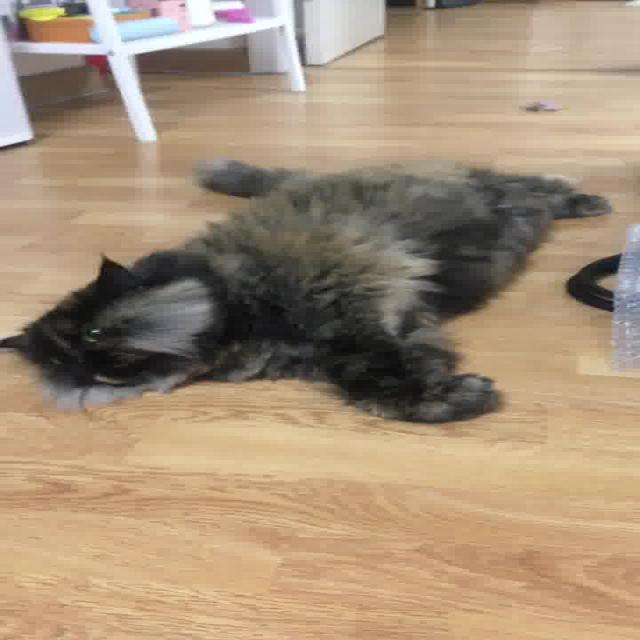cat: (6, 154, 615, 426)
